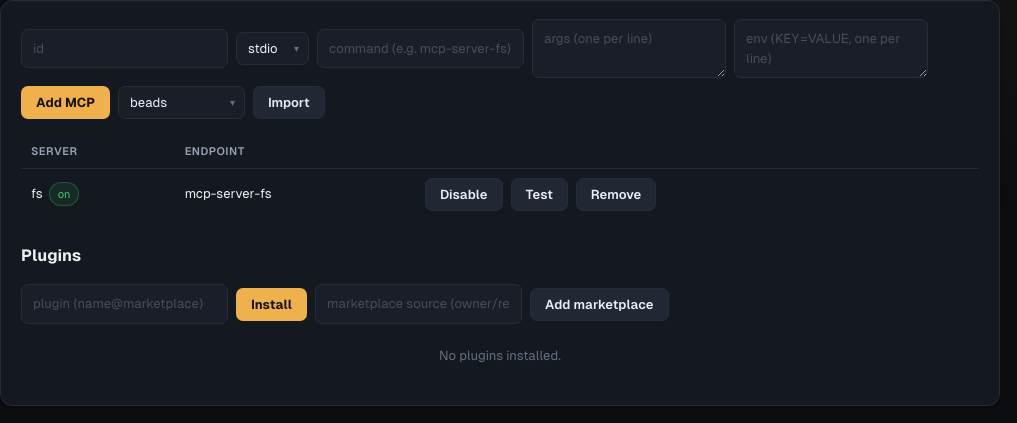
Test: Connectors status feedback › shows a Reachable chip after a successful Test
Expected: the text "mcp-server-fs" is shown, [175,168,415,220]
Click the button "Test" at (539,194), box [510,178,568,210]
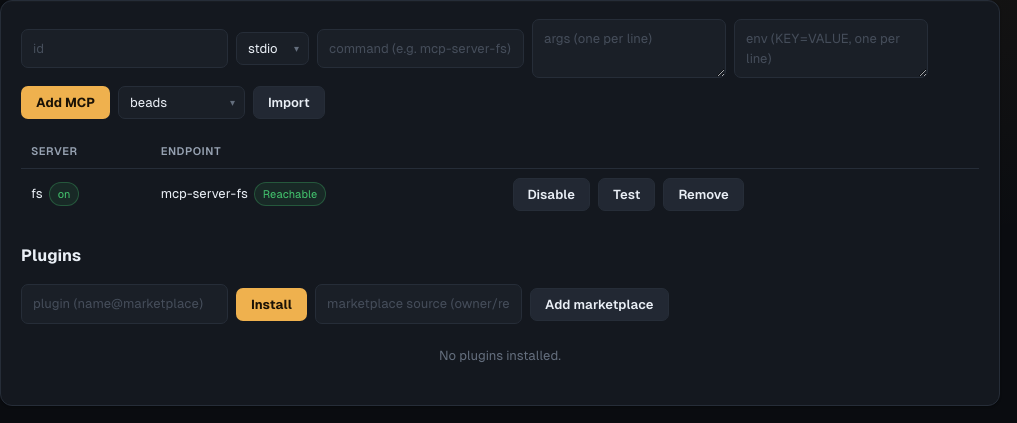
Result: the text "Reachable" is shown at [254,182,326,206]
